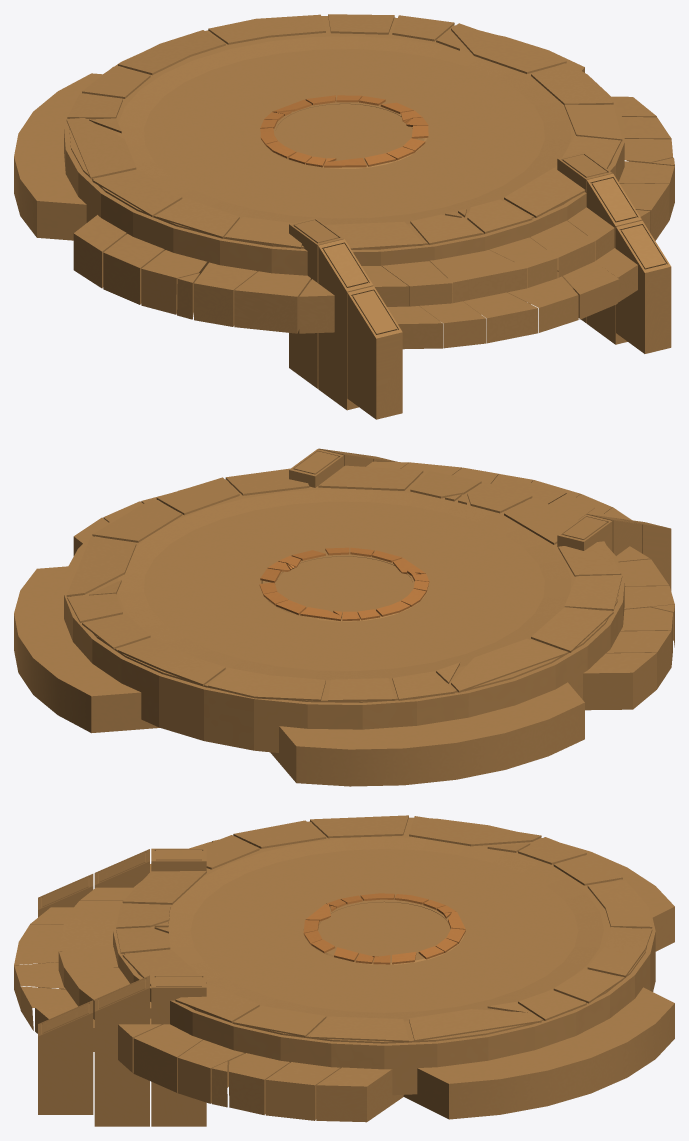
The model's file is Stage.fbx.
3 renders of one model, top to bottom at view 1: azimuth 30°, elevation 25°; view 2: azimuth 150°, elevation 25°; view 3: azimuth 270°, elevation 25°, orthographic. The views are drawn at different scales.
Parts seen in each view (by area): view 1: Circle.015, Circle; view 2: Circle, Circle.015; view 3: Circle.015, Circle.
Part boxes in pixels (bbox=[...]): Circle.015: bbox=[14, 14, 674, 419]; Circle: bbox=[64, 16, 624, 278]; Circle: bbox=[64, 473, 624, 752]; Circle.015: bbox=[14, 448, 674, 786]; Circle.015: bbox=[14, 815, 674, 1126]; Circle: bbox=[113, 817, 655, 1095].
Size of the model in its own units: 7399 by 1820 by 7844.
2 materials, 2 textured.
